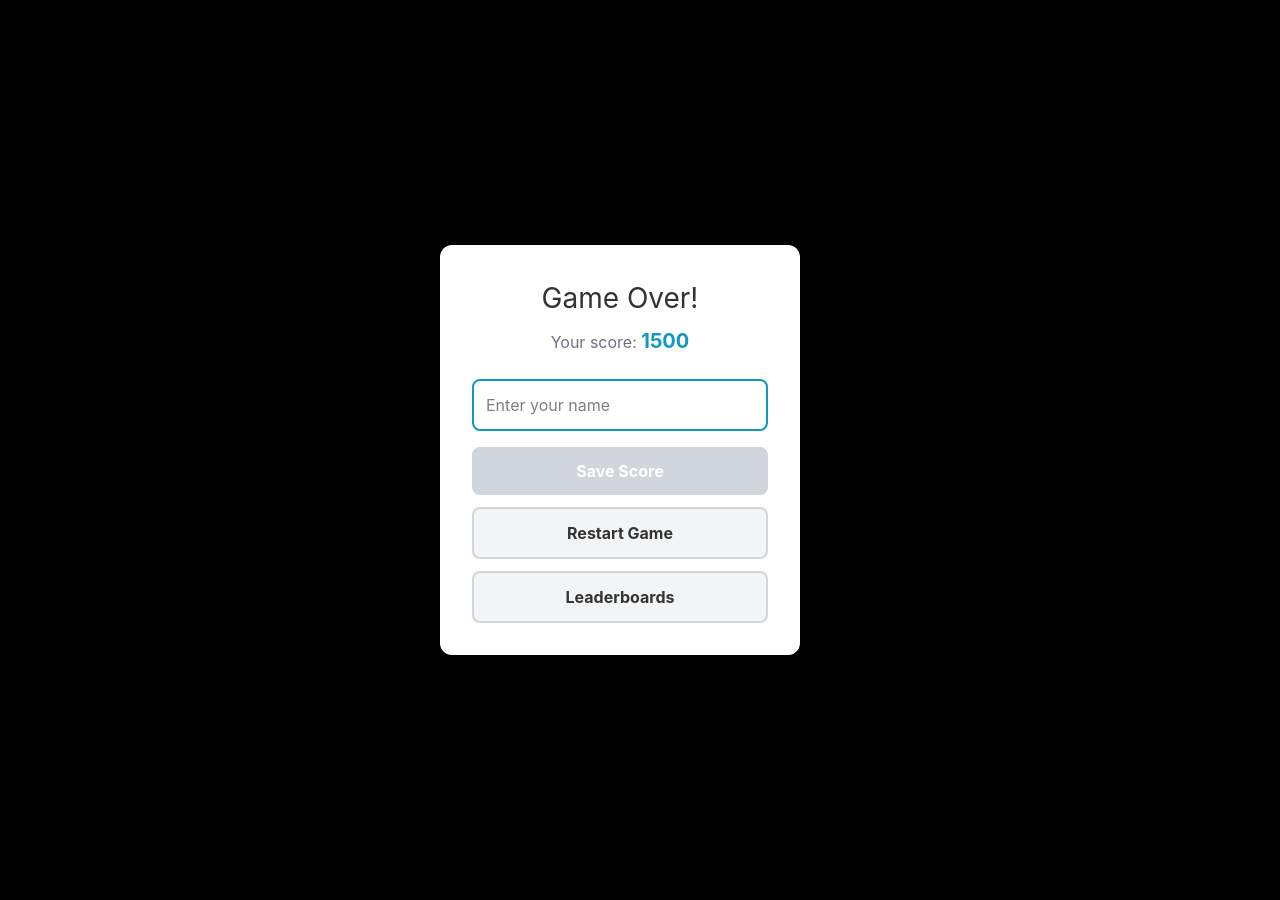
Test: ScoreModal › shows the rank after saving
Type "Bob" into the field with placeholder "Enter your name".
click(620, 405); type("Bob")  # box [472,379,768,431]
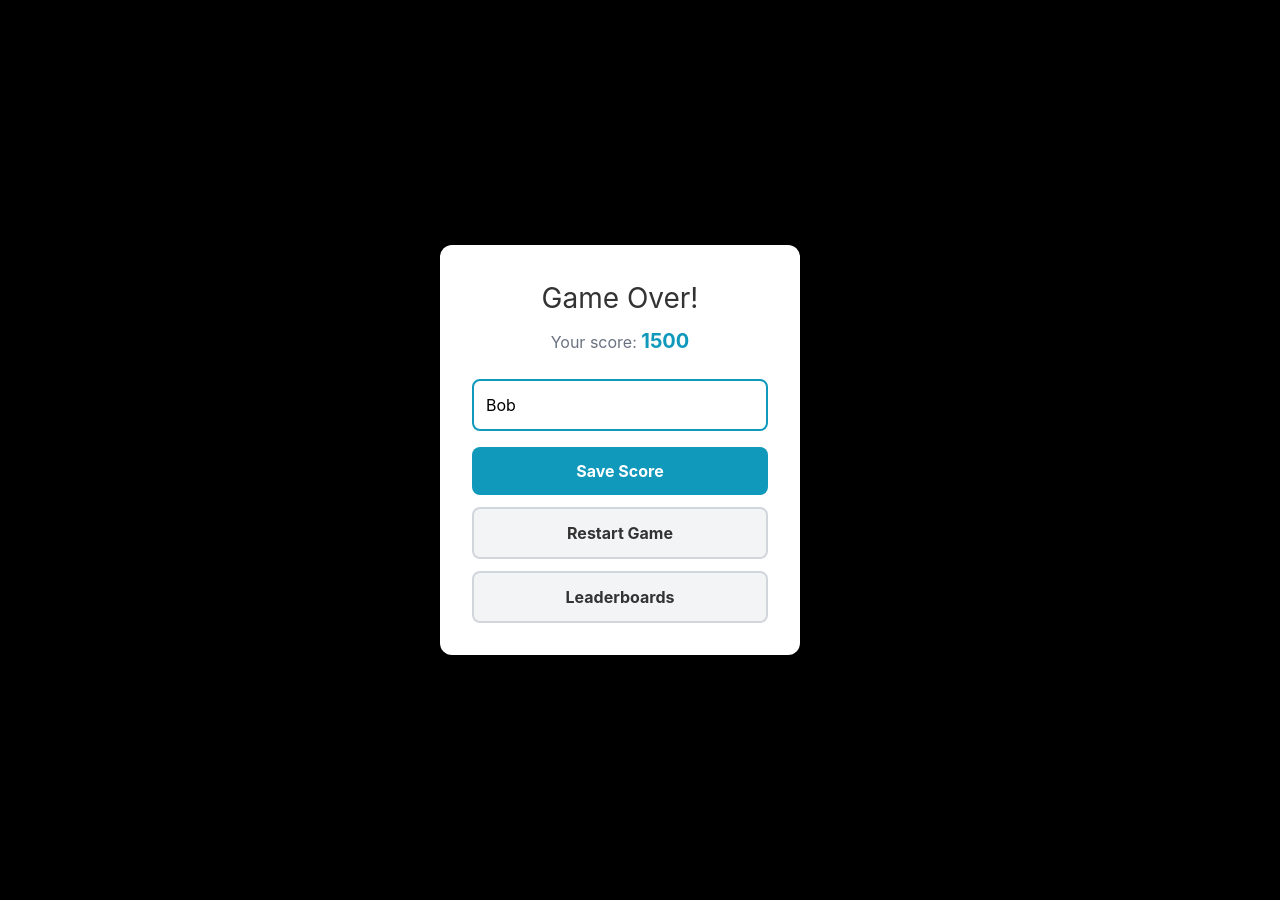
Click the button "Save Score".
click(620, 471)  # box [472,447,768,495]
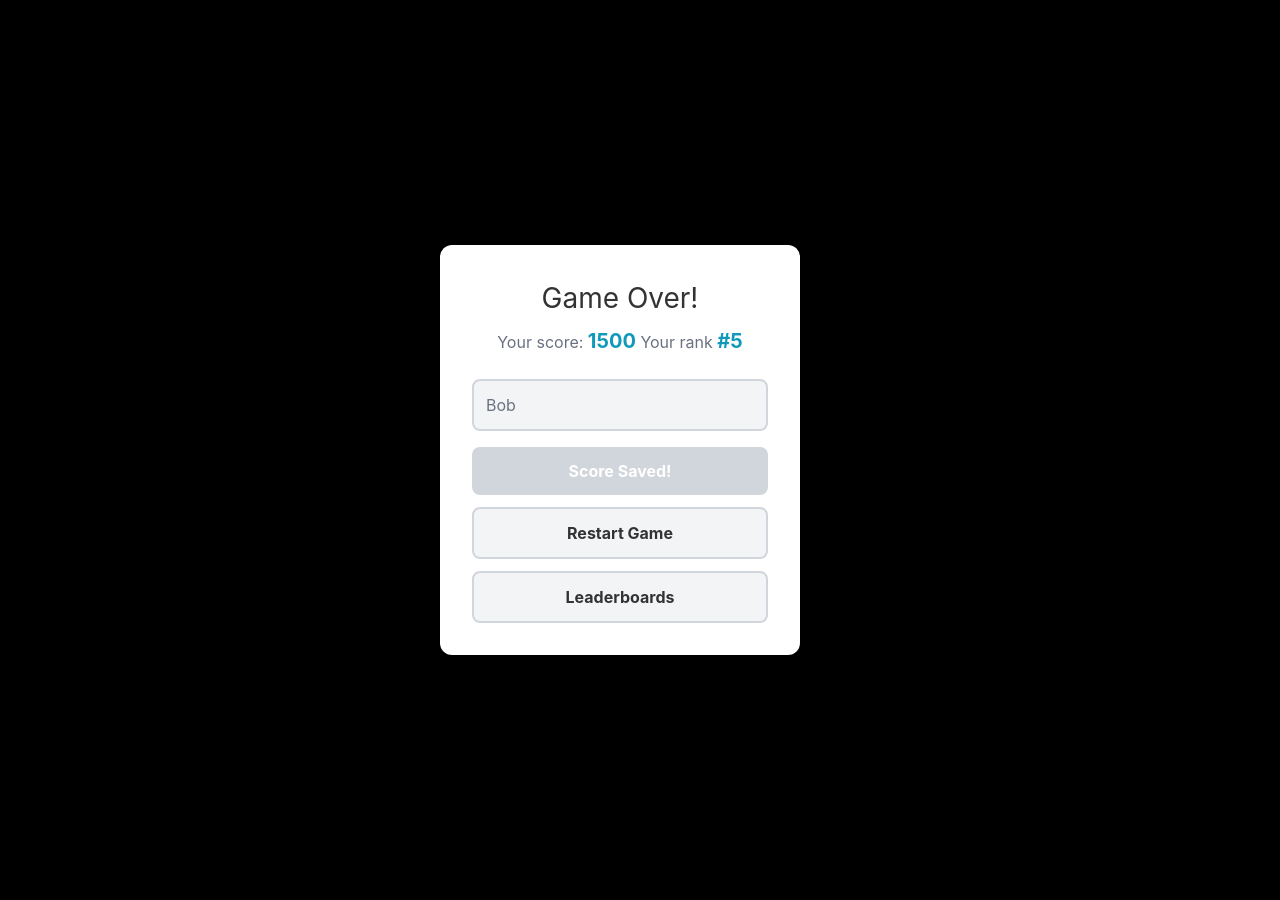
Now the text "#5" is shown, box [717,329,743,353]
